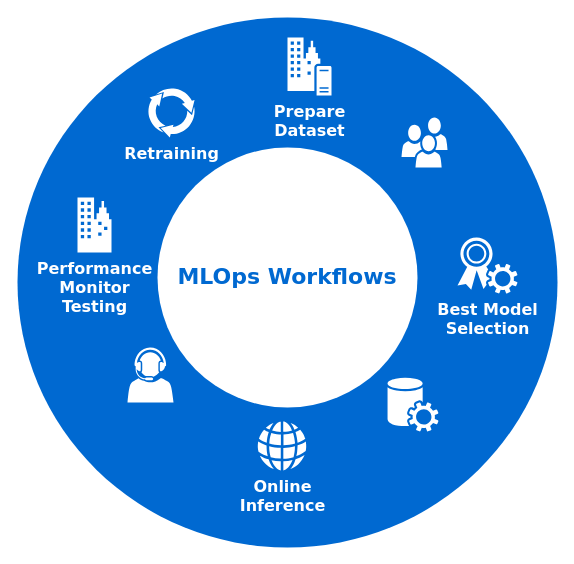
The diagram is 574 pixels wide and 564 high, and some of its shapes have lost their labels. The shapes that lost their labels are listed below. From the top down, each one's centre as x and y in pixels, then its label:
(424,142): Training
(150,374): Performance Monitoring Reporting
(412,404): Batch Inference
